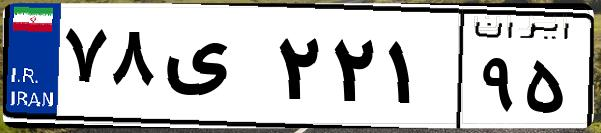1: (385, 28, 445, 110)
2: (270, 28, 330, 110), (330, 28, 385, 110)
5: (525, 38, 570, 115)
7: (57, 26, 110, 100)
8: (110, 28, 158, 98)
9: (475, 38, 525, 113)
ی: (158, 20, 270, 120)
